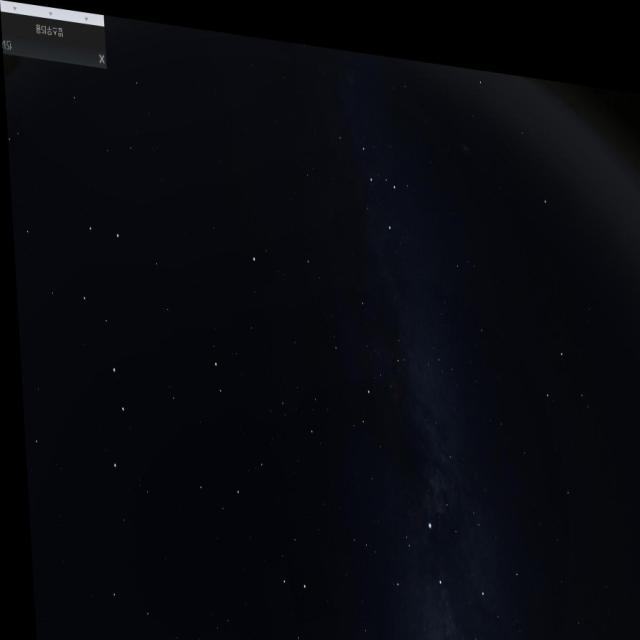cassiopeia: (331, 112, 411, 234)
cygnus: (379, 480, 487, 640)
ursa_major: (59, 204, 143, 502)
